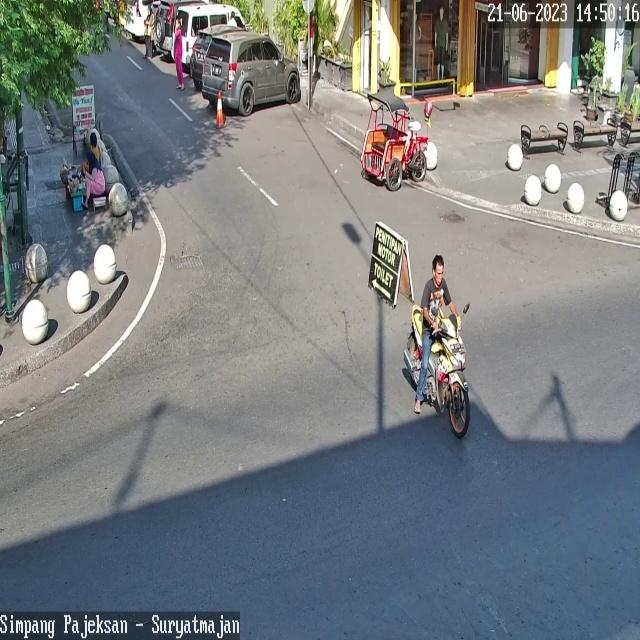bus: (402, 302, 471, 439)
motorcycle: (203, 31, 300, 115), (172, 4, 247, 64), (190, 31, 213, 83), (153, 0, 175, 54), (123, 0, 150, 36)
